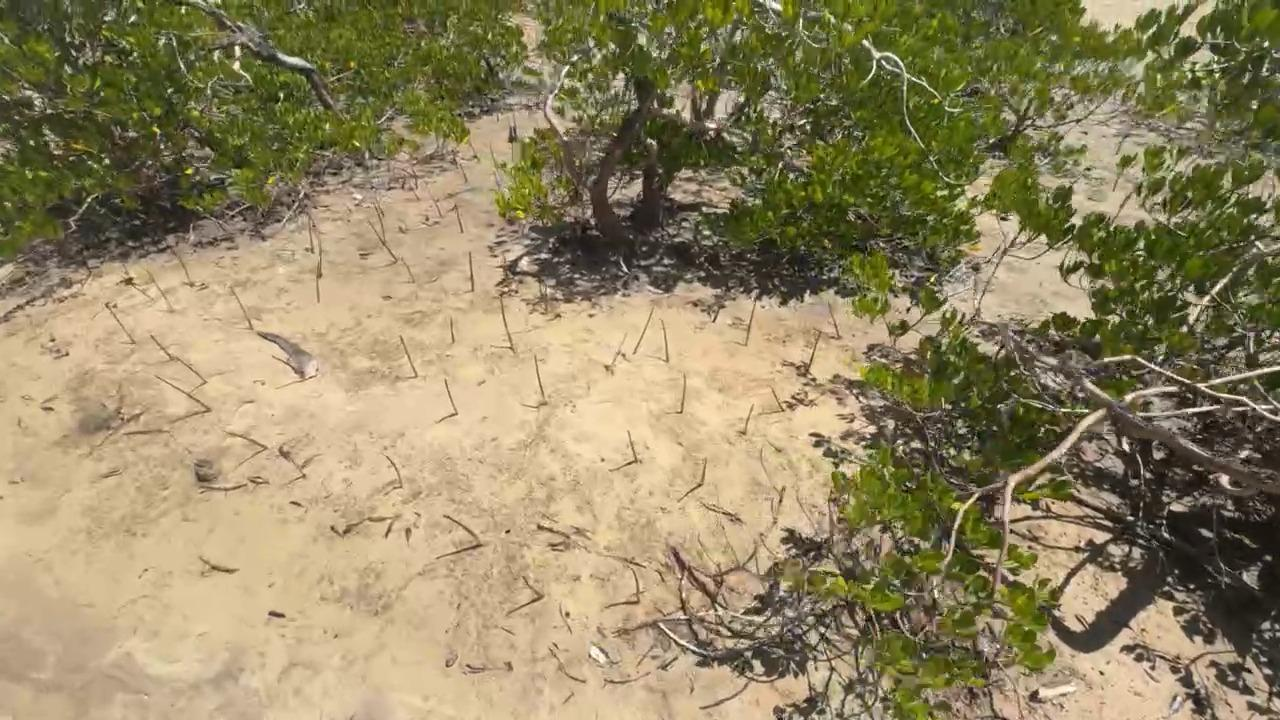Tree: (153, 374, 210, 411), (104, 302, 136, 344), (442, 514, 482, 545), (229, 286, 254, 329), (632, 307, 654, 355), (147, 270, 173, 309), (605, 333, 628, 372), (222, 430, 269, 449), (174, 357, 208, 383), (380, 452, 404, 488), (279, 447, 307, 477), (398, 334, 417, 376), (533, 354, 548, 402), (805, 331, 822, 372), (500, 302, 514, 349), (270, 354, 298, 376), (443, 377, 459, 415), (150, 334, 174, 359), (745, 299, 757, 346), (537, 523, 571, 538), (521, 576, 544, 598), (378, 236, 398, 261), (176, 256, 192, 287), (828, 302, 840, 338), (661, 320, 670, 364), (770, 387, 786, 411), (627, 430, 638, 463), (400, 257, 415, 281), (745, 403, 756, 435), (631, 567, 641, 602), (375, 206, 385, 238), (369, 223, 383, 243), (680, 373, 687, 413), (699, 457, 708, 485), (456, 204, 464, 234), (468, 252, 474, 291), (318, 233, 323, 276), (309, 218, 314, 251), (449, 316, 455, 343), (316, 263, 320, 302), (433, 202, 442, 217), (461, 168, 468, 183)
